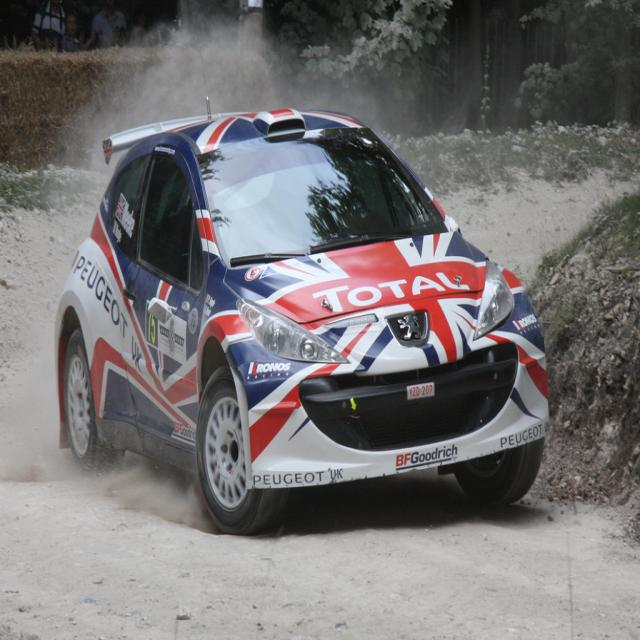car: (50, 33, 547, 536)
